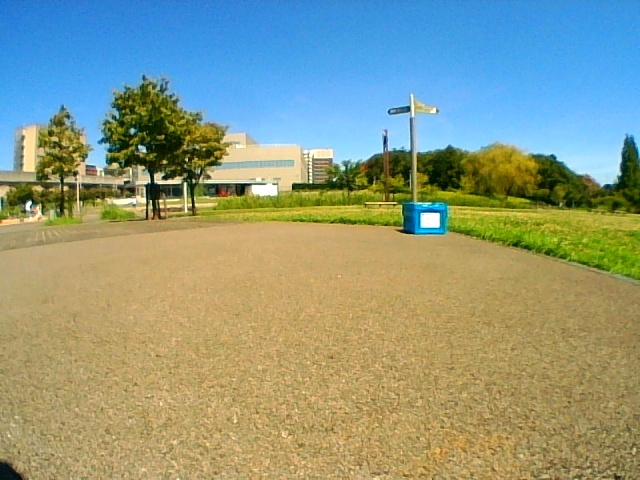blue_box: (404, 202, 445, 234)
tag: (421, 213, 440, 227)
